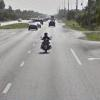Motorcycle: (36, 31, 54, 54)
